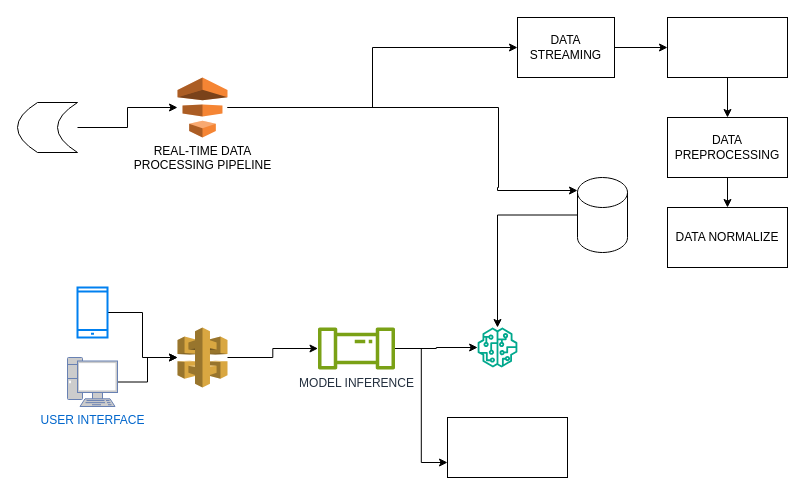
This 805x495 diagram has some shape labels left out. Each missing label, with the box of its shape:
API GATEWAY: (176, 326, 228, 388)
DATA CLEANING: (666, 16, 788, 78)
INFERENCE POST-PROCESSING: (446, 416, 568, 478)
